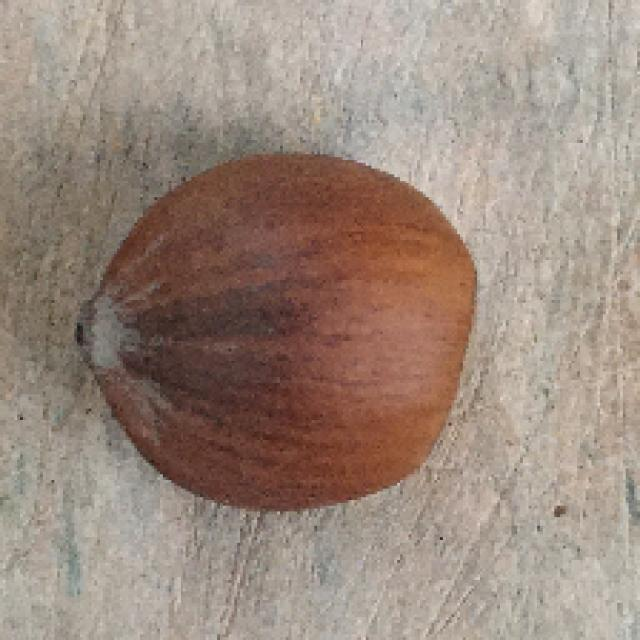damagedHazelnut: (73, 148, 483, 516)
